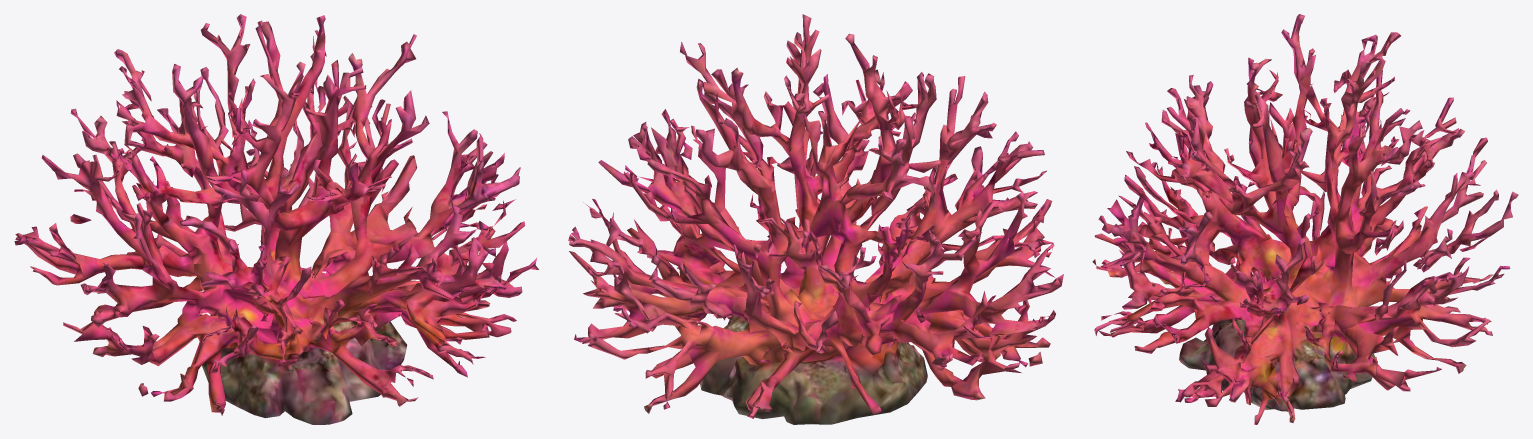
Rendered from coralpink.glb.
3 renders of one model, left to right at view 1: azimuth 30°, elevation 25°; view 2: azimuth 150°, elevation 25°; view 3: azimuth 270°, elevation 25°, orthographic. The views are drawn at different scales.
Size of the model in its own units: 1.97 by 1.47 by 1.87.
1 material, 1 textured.
